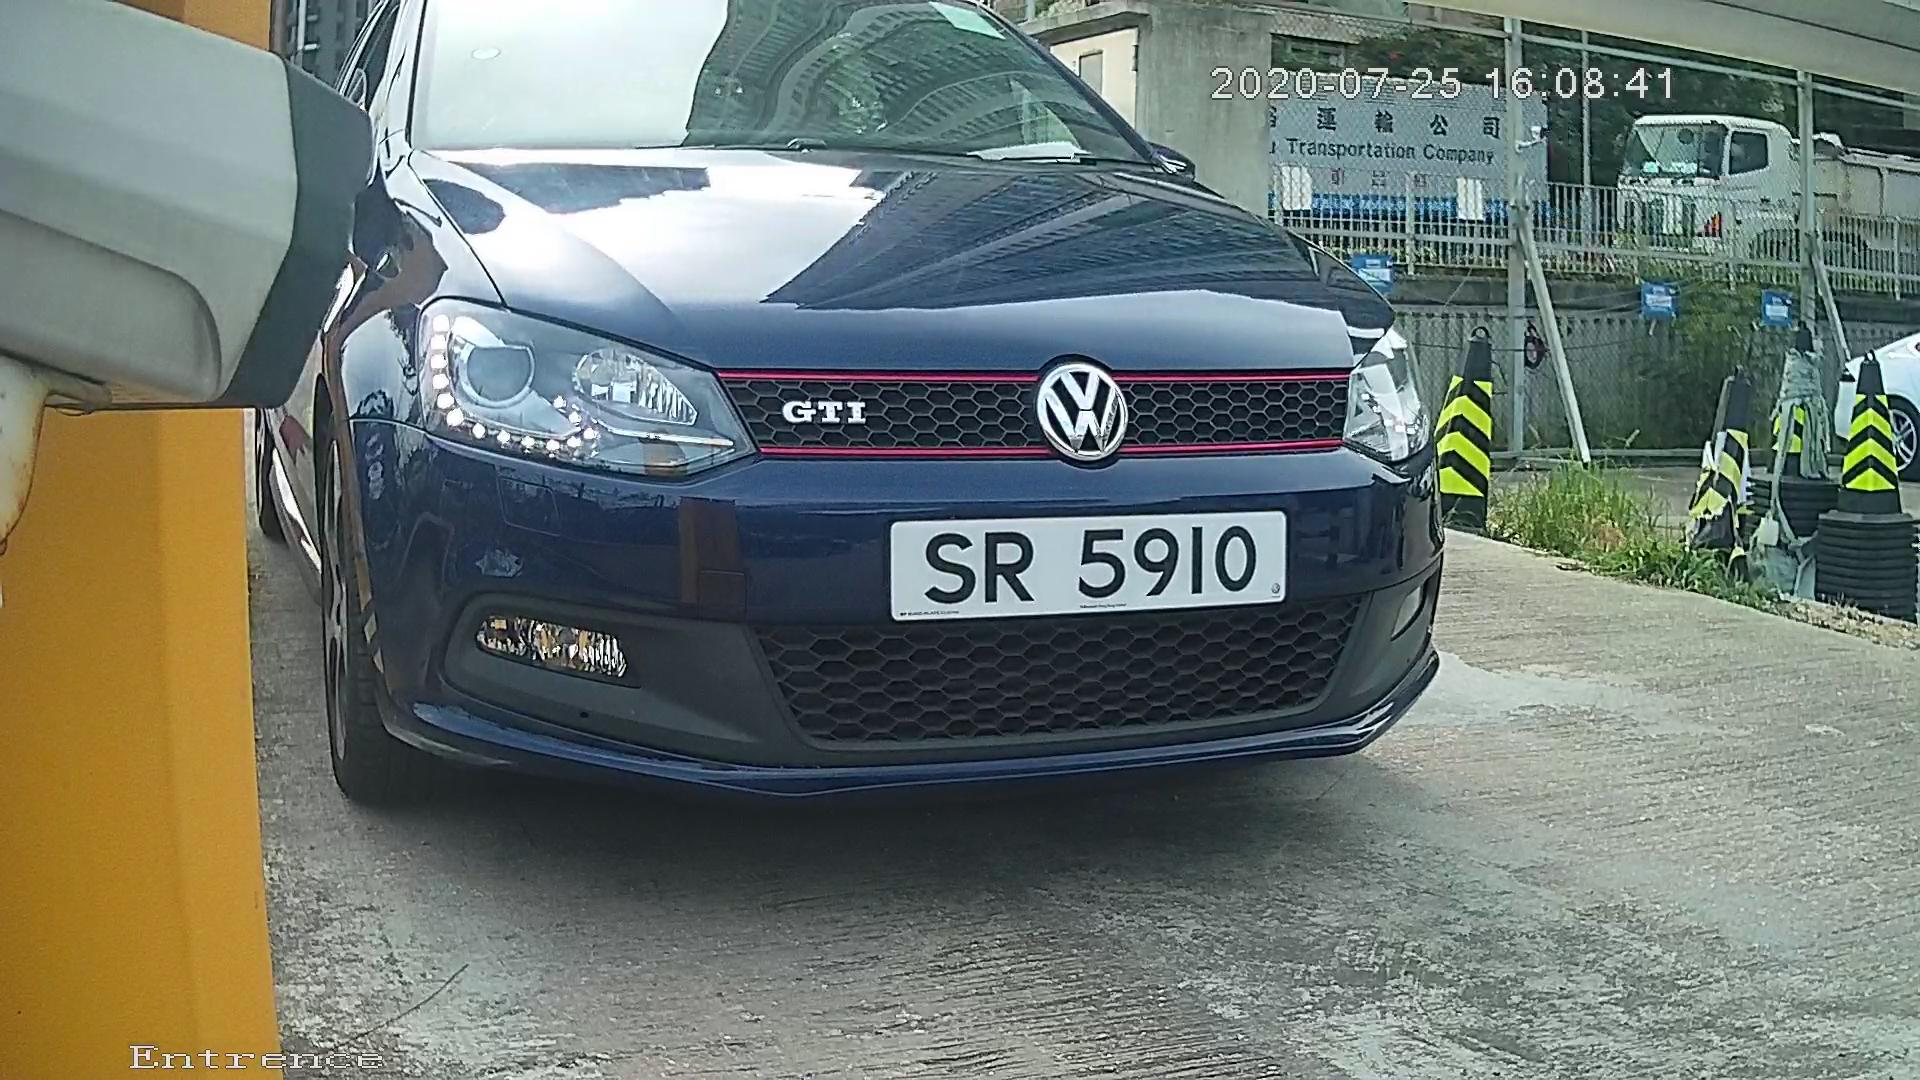License Plate: (866, 492, 1303, 637)
